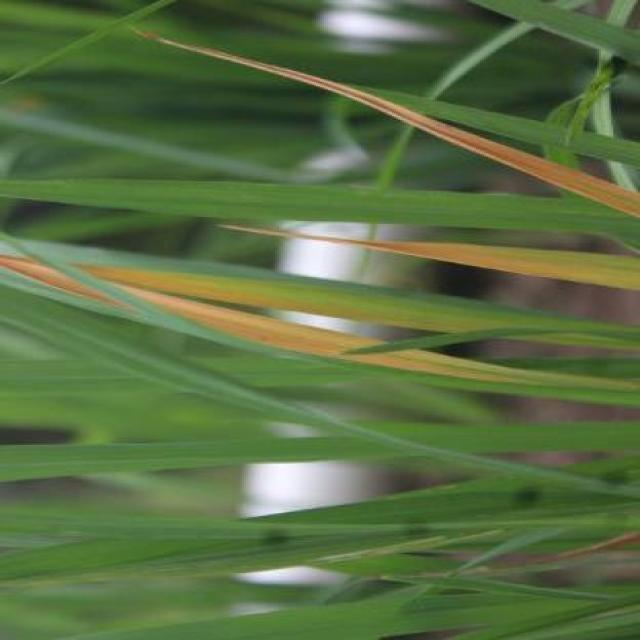Tungro: (9, 228, 640, 405), (145, 15, 640, 215)
